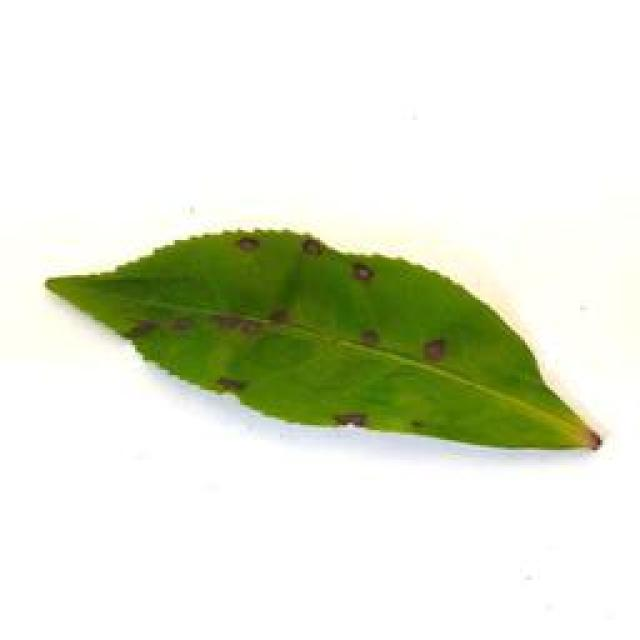Helopeltis: (35, 216, 608, 469)
